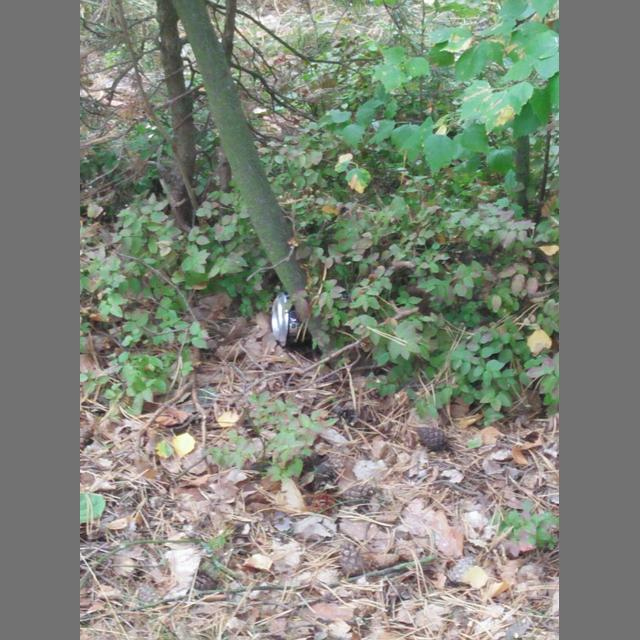litter: (271, 292, 316, 349)
